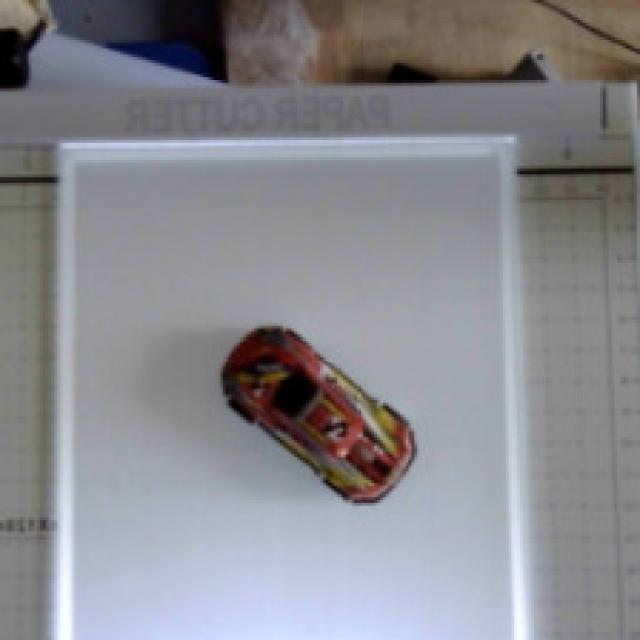Red Car: (178, 317, 444, 512)
